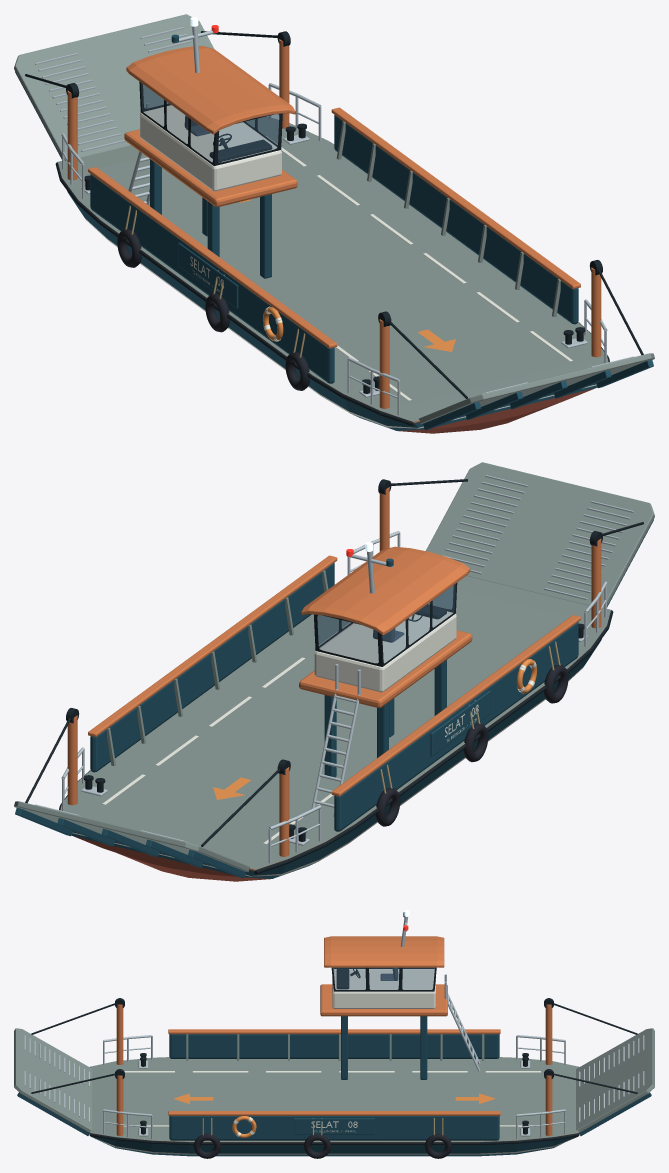
3 renders of one model, top to bottom at view 1: azimuth 30°, elevation 25°; view 2: azimuth 150°, elevation 25°; view 3: azimuth 270°, elevation 25°, orthographic. The views are drawn at different scales.
Parts seen in each view (by area): view 1: Belungkor Vehicle Ferry; view 2: Belungkor Vehicle Ferry; view 3: Belungkor Vehicle Ferry.
Boxes of the visible parts, box(x1,y1,x2,y2) form: Belungkor Vehicle Ferry: box(14, 14, 654, 433); Belungkor Vehicle Ferry: box(14, 462, 654, 881); Belungkor Vehicle Ferry: box(14, 910, 654, 1158).
Size of the model in its own units: 5.5 by 5.59 by 16.64.
